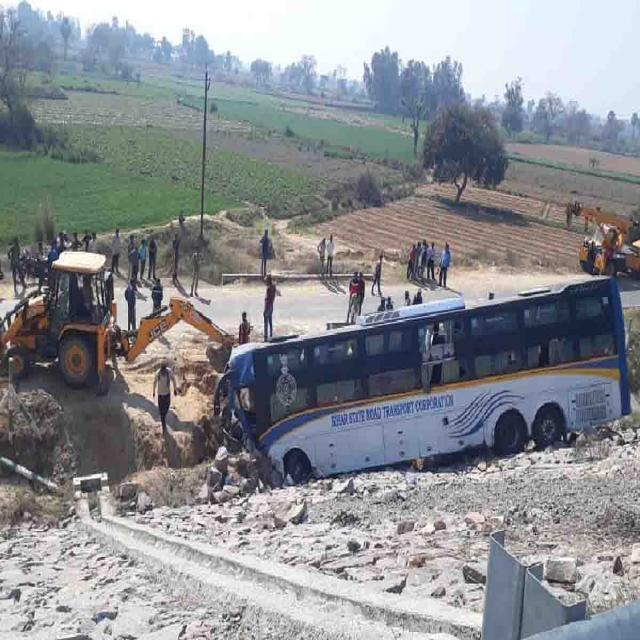accident: (214, 278, 630, 483)
truck: (0, 250, 234, 387)
